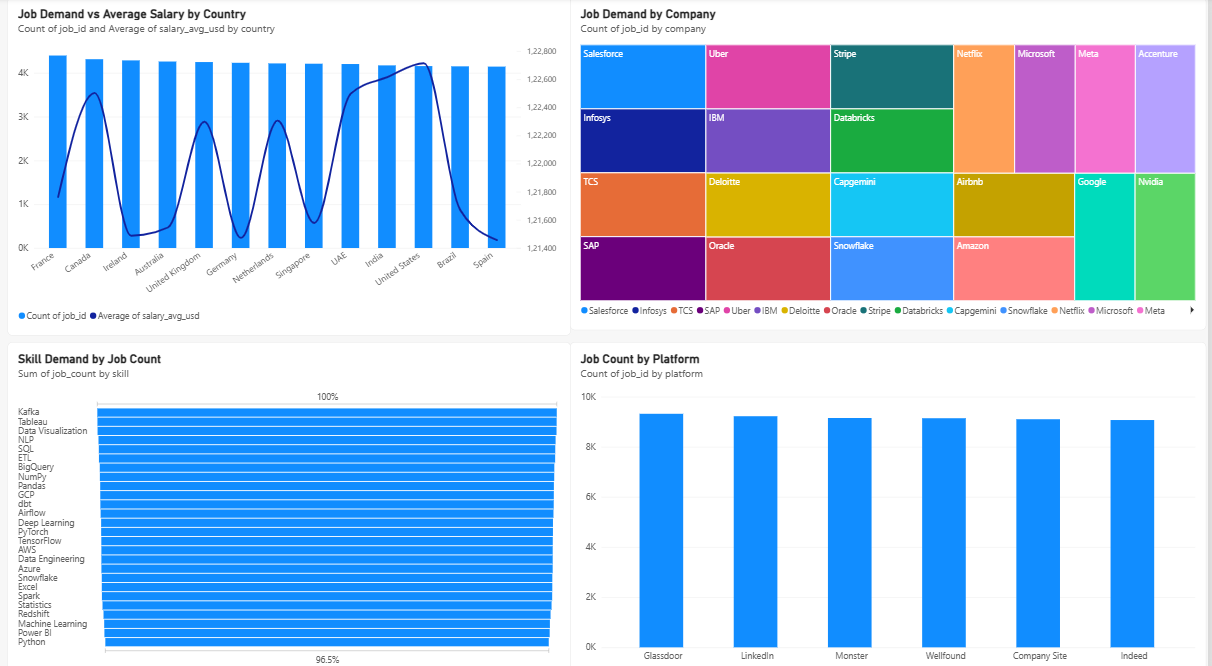

What the dashboard file says about the page in this screenshot:
{"tool":"powerbi","page":{"name":"Page 3","canvas":[1920,1080],"ordinal":2},"visuals":[{"type":"lineClusteredColumnComboChart","title":"Job Demand vs Average Salary by Country","fields":{"Category":["job_postings_analysis.country"],"Y":["CountNonNull(job_postings_analysis.job_id)"],"Y2":["Avg(job_postings_analysis.salary_avg_usd)"]},"box":[11.3,0,895.8,538.6],"z":0},{"type":"treemap","title":"Job Demand by Company","fields":{"Group":["job_postings_analysis.company"],"Values":["CountNonNull(job_postings_analysis.job_id)"]},"box":[907.1,0,1012,530.1],"z":1000},{"type":"funnel","title":"Skill Demand by Job Count","fields":{"Category":["skill_demand.skill"],"Y":["Sum(skill_demand.job_count)"]},"box":[11,549,896,531],"z":2000},{"type":"clusteredColumnChart","title":"Job Count by Platform","fields":{"Category":["job_postings_analysis.platform"],"Y":["CountNonNull(job_postings_analysis.job_id)"]},"box":[907,549,1012,531],"z":3000}]}

Visuals, with their boxes in screenshot pixels (x1, y1, x2, y2), scaled from the page's 1920x1080 canvas onto the 1212x666 screenshot:
"Job Demand vs Average Salary by Country" lineClusteredColumnComboChart: bbox=[7, 0, 573, 332]
"Job Demand by Company" treemap: bbox=[573, 0, 1211, 327]
"Skill Demand by Job Count" funnel: bbox=[7, 339, 573, 665]
"Job Count by Platform" clusteredColumnChart: bbox=[573, 339, 1211, 665]
